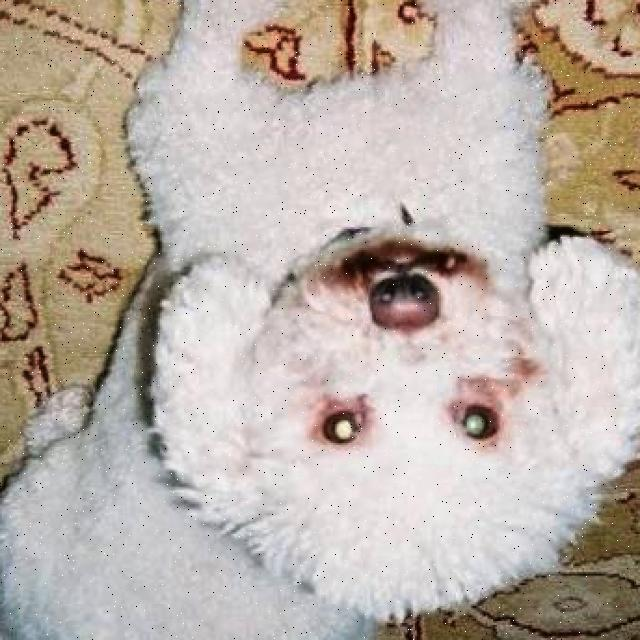Dog: (147, 155, 640, 602)
